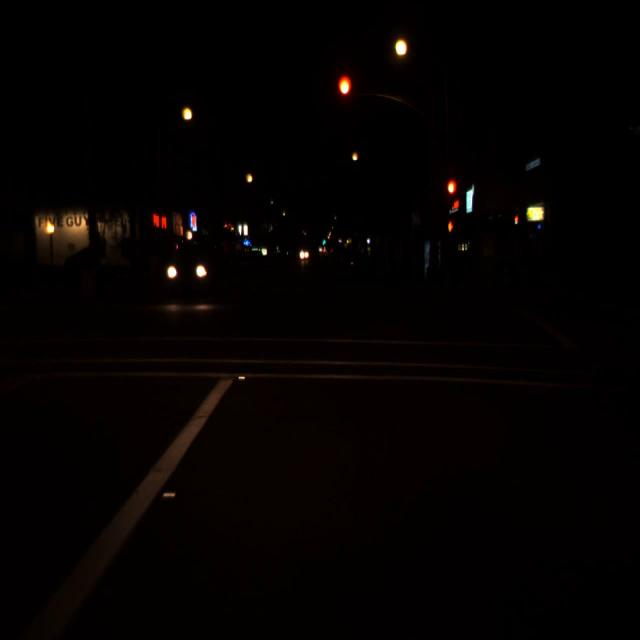go: (322, 234, 326, 246)
go traffic light: (322, 234, 326, 246)
stop: (336, 73, 354, 116), (446, 178, 458, 210)
stop traffic light: (336, 73, 354, 116), (446, 178, 458, 210)
